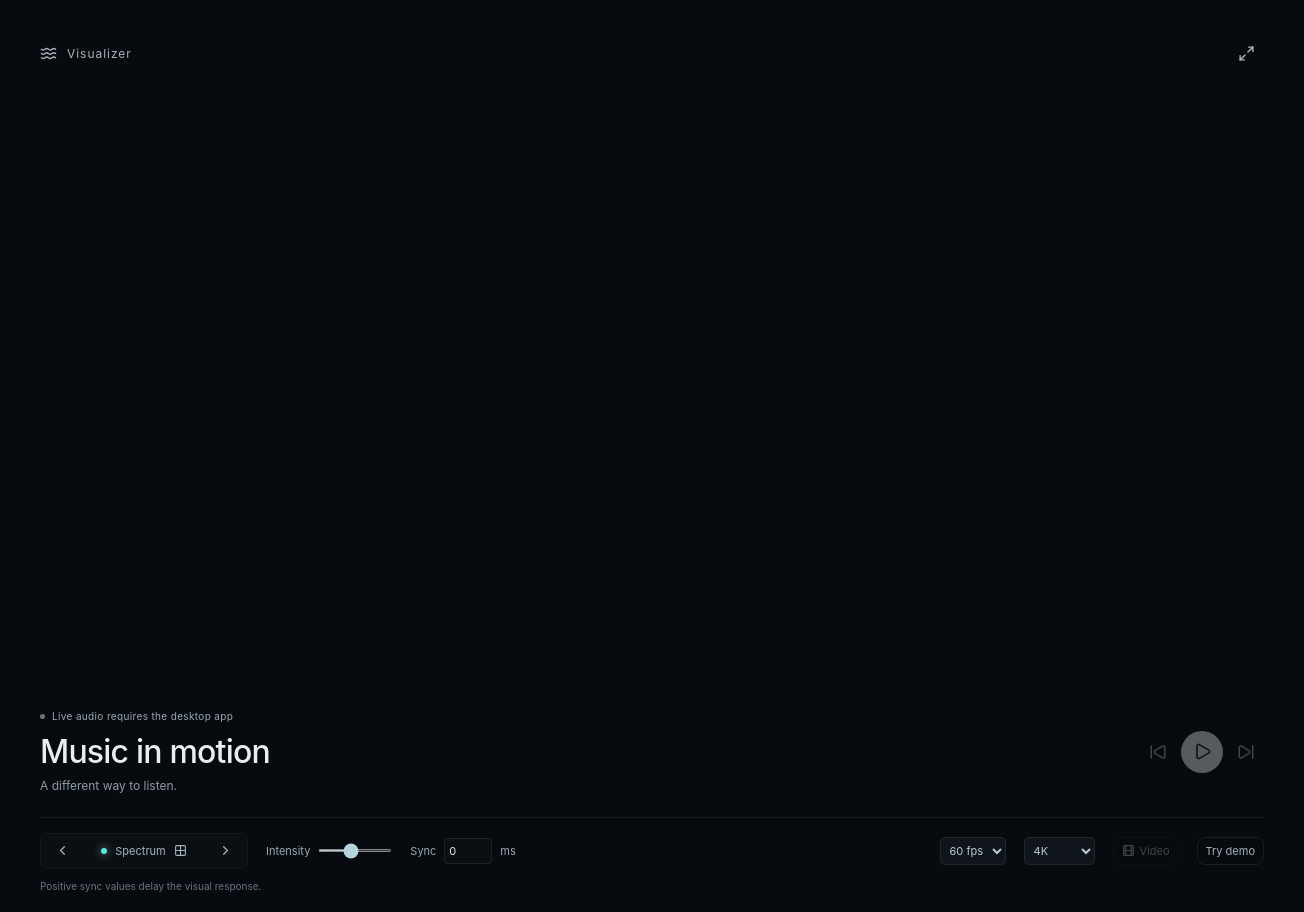
Test: Visualizer window › switches presets in both directions and keeps 4K calibration preferences
This screenshot has width=1304, height=912.
Click the button named "Next visualizer": (226, 851) top-left (207, 836), bottom-right (244, 865)
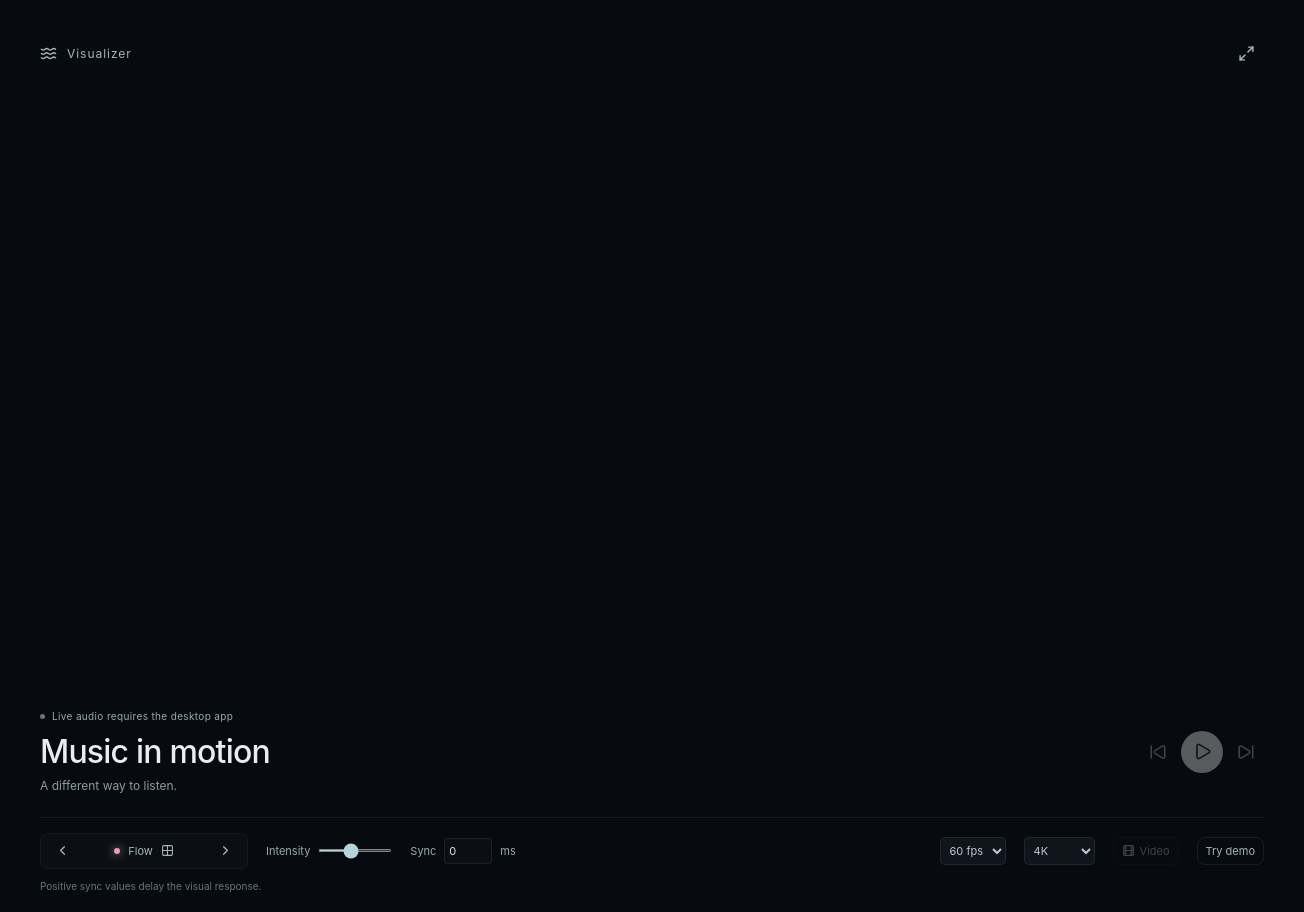
Expected: the button with aria-label "Browse visualizers" reads "Flow", top-left (81, 836), bottom-right (207, 865)
Click the button named "Previous visualizer": (62, 851) top-left (44, 836), bottom-right (81, 865)
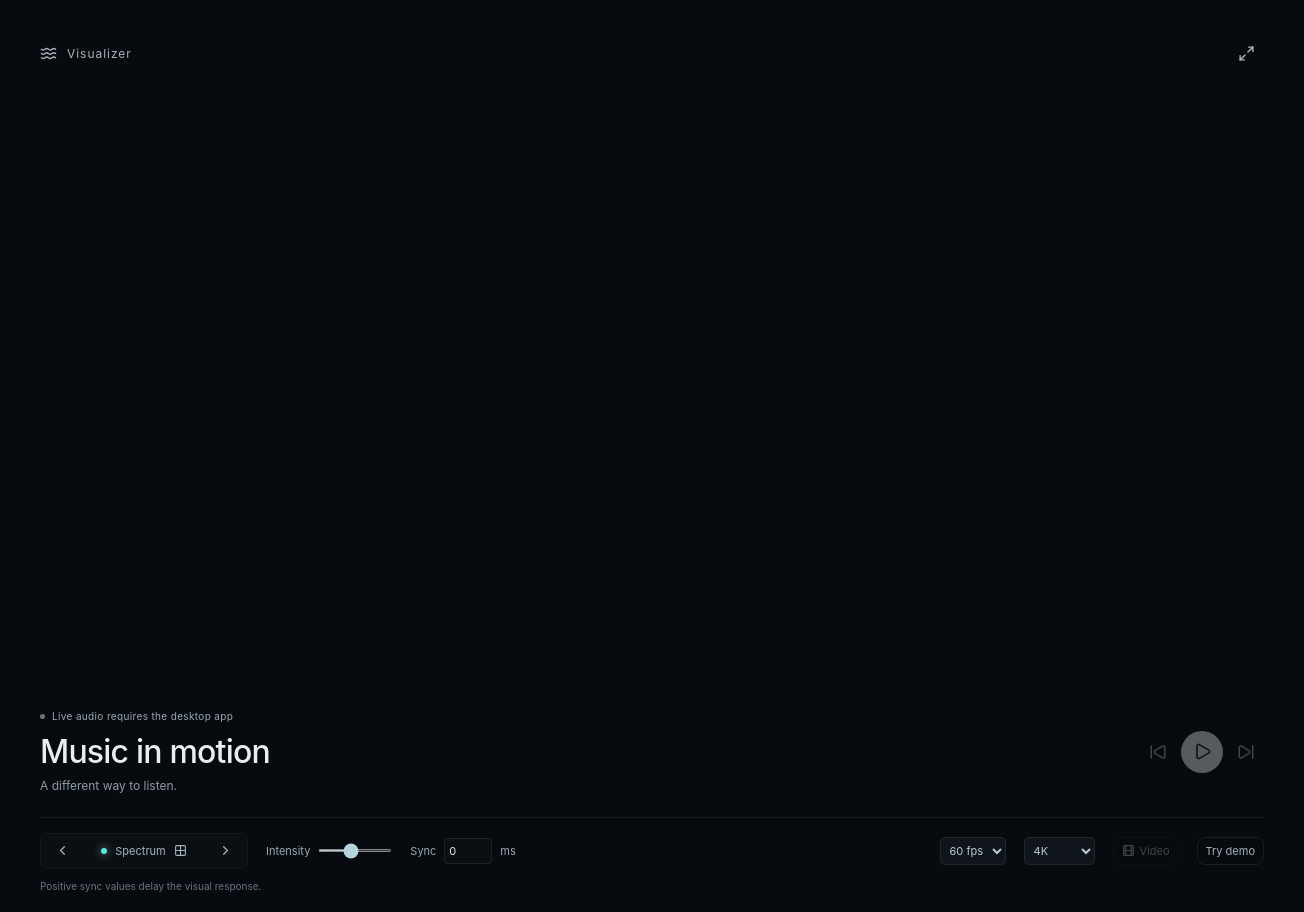
Expected: the button with aria-label "Browse visualizers" reads "Spectrum", top-left (81, 836), bottom-right (207, 865)
Click the button named "Previous visualizer": (62, 851) top-left (44, 836), bottom-right (81, 865)
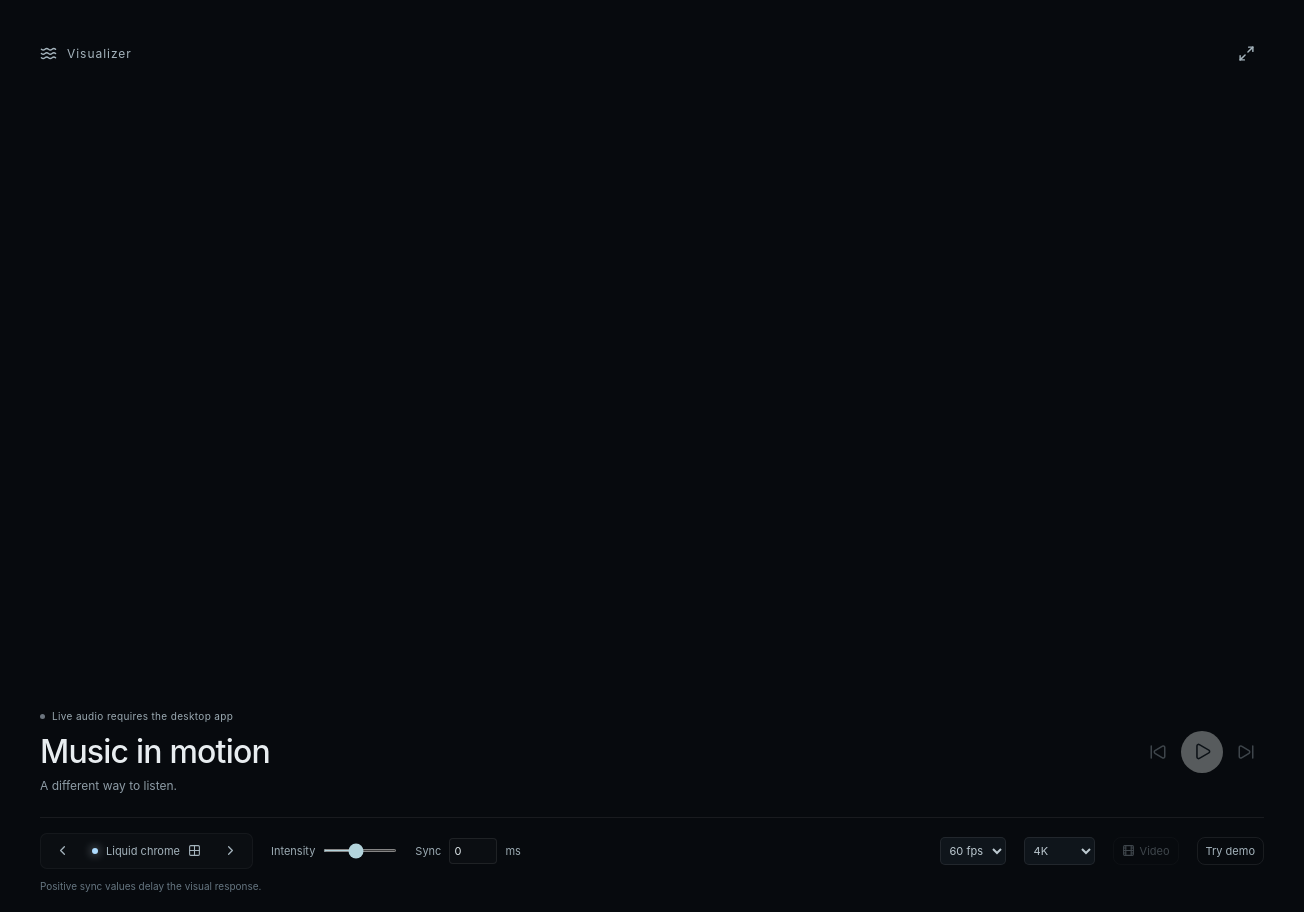
Expected: the button with aria-label "Browse visualizers" reads "Liquid chrome", top-left (81, 836), bottom-right (212, 865)
